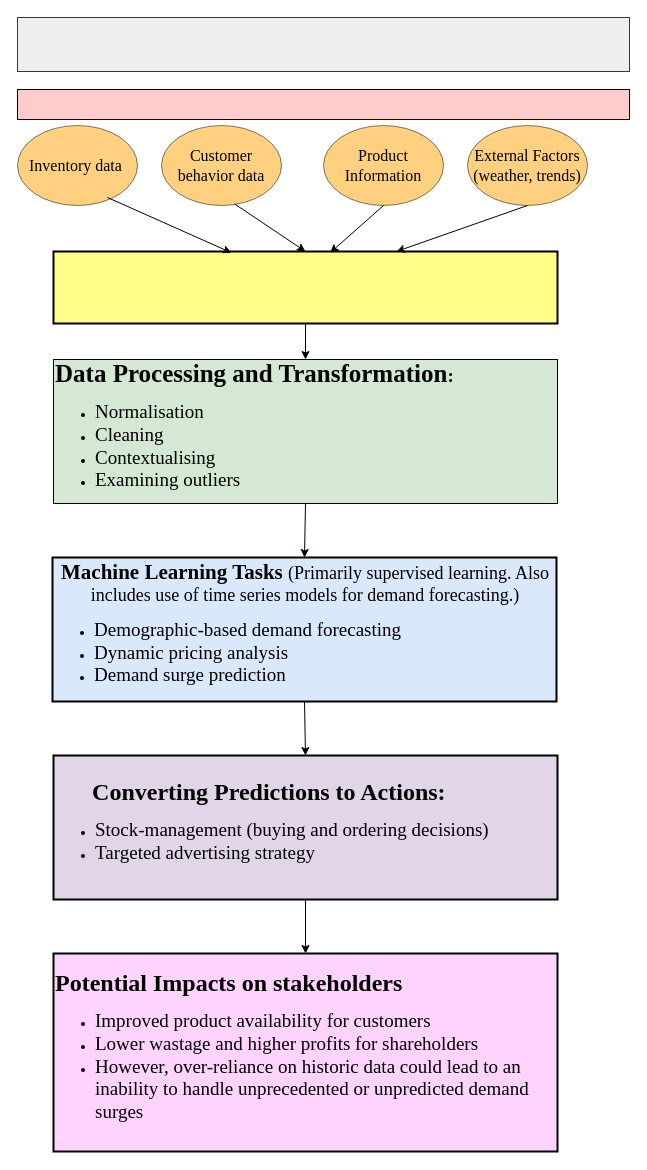
This 647x1170 diagram has some shape labels left out. Here are the shapes that lost their labels. From the top down, the centre of each, then its label:
At (x=323, y=44): "Data to Decision Mapping (Retail Industry)".
At (x=323, y=104): "Raw Data Sources".
At (x=305, y=287): "Raw Data Collection".
